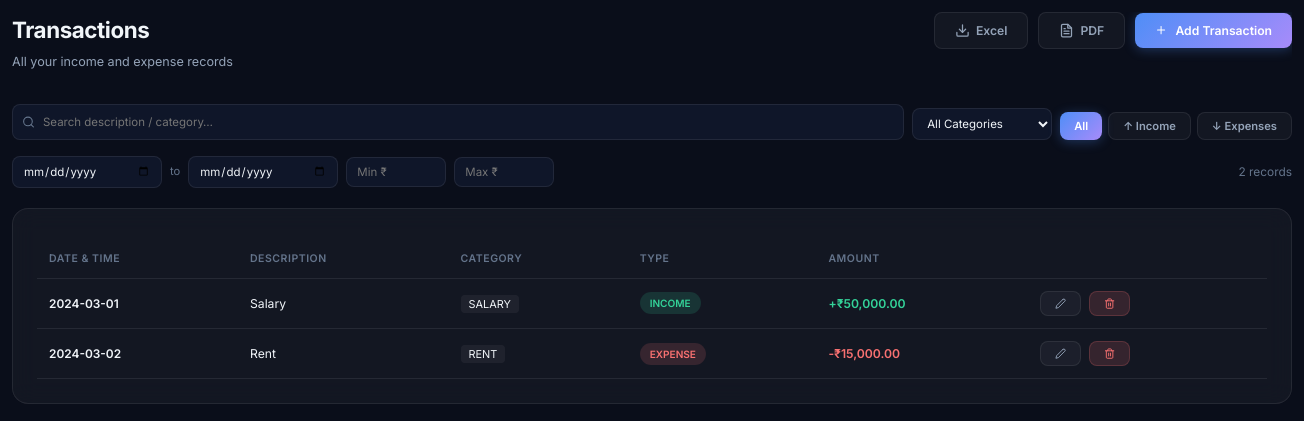
Transactions › filters transactions by search term
The width and height of the screenshot is (1304, 421).
Expected: the text "Salary" is shown, x1=238 y1=278 x2=449 y2=328
Type "Rent" into the field with placeholder "Search description / category…". click: {"x": 458, "y": 122}
box: x1=12 y1=104 x2=904 y2=140
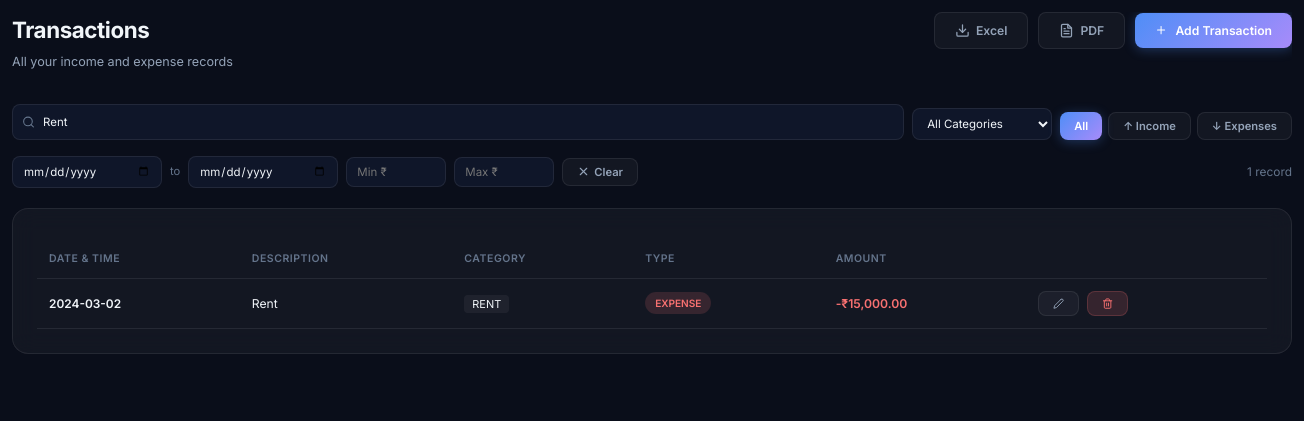
Expected: the text "Rent" is shown, x1=240 y1=278 x2=452 y2=328
Expected: the text "Salary" is gone
